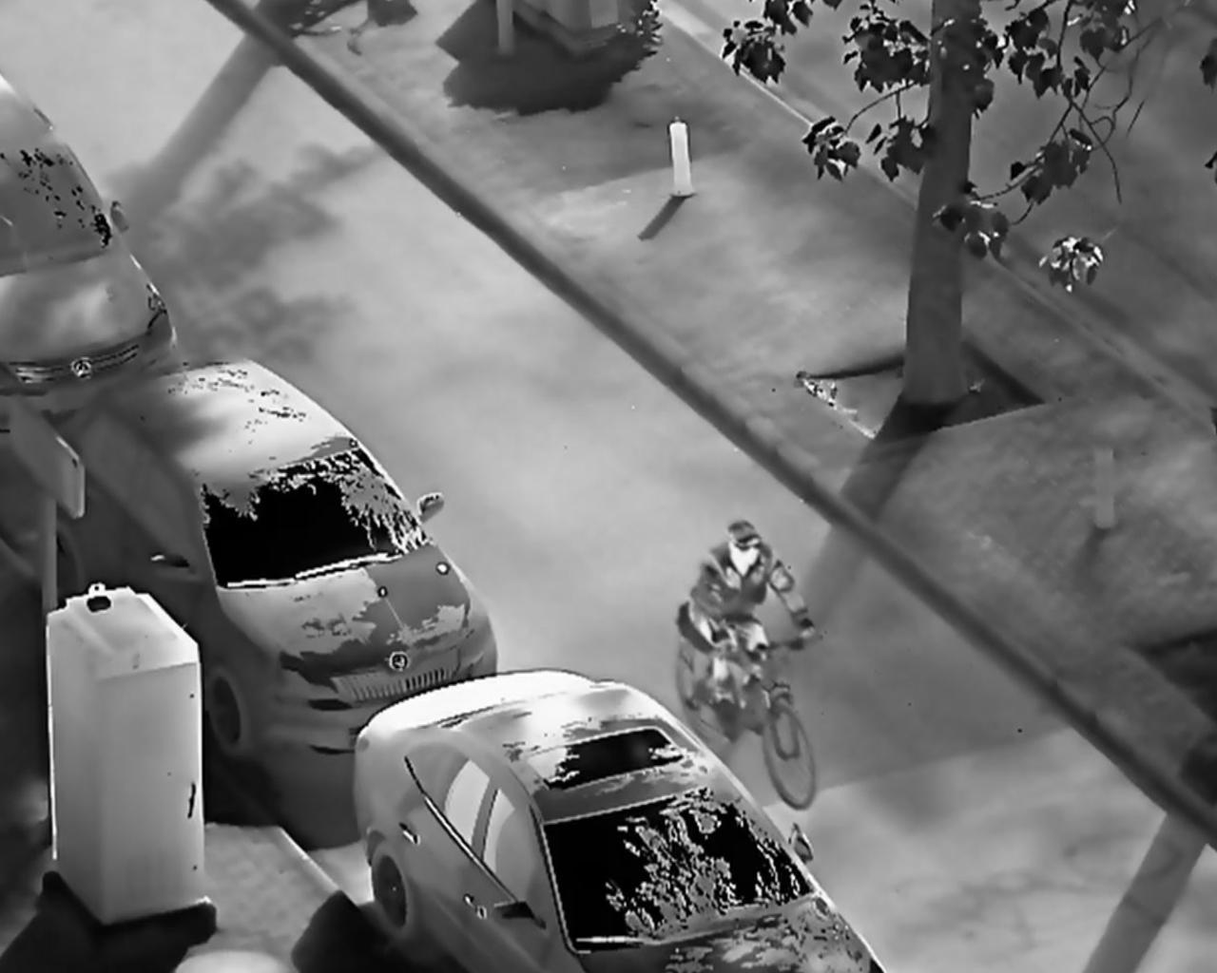person: (685, 514, 827, 743)
